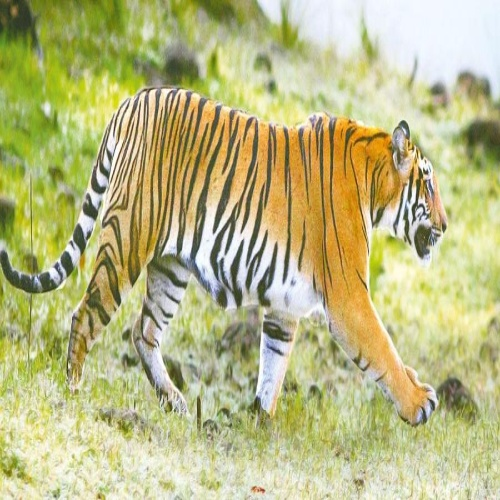tiger: (49, 48, 485, 419)
